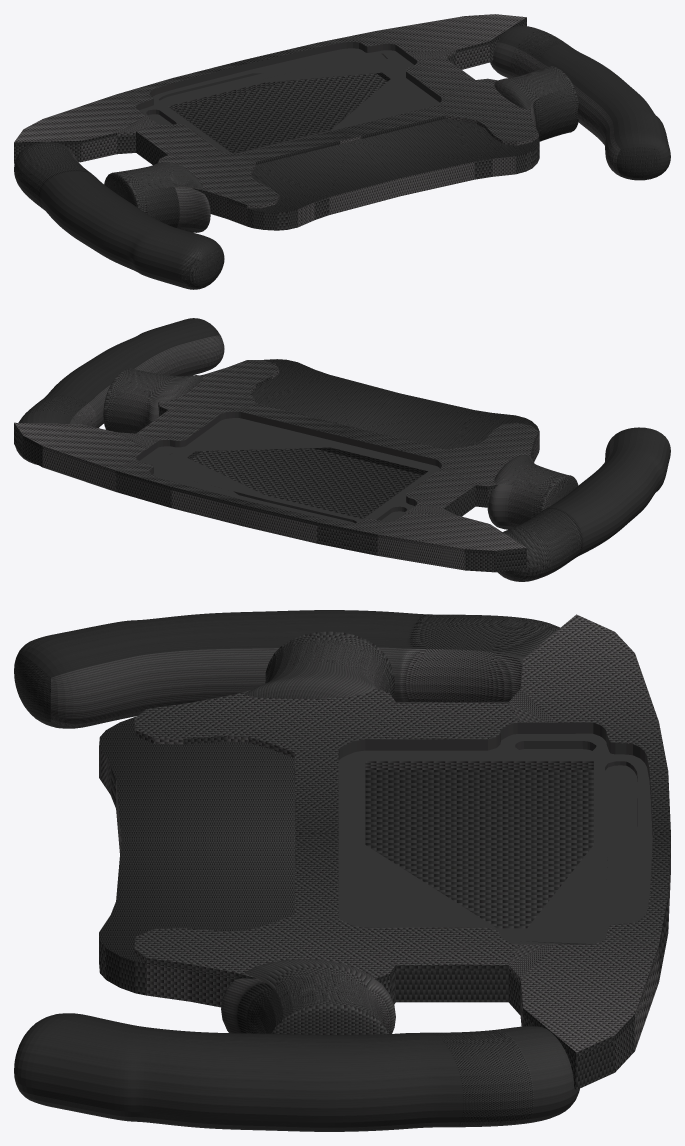
Rendered from F1_Handoru_III.fbx.
The picture shows the model from 3 angles, top to bottom: view 1: azimuth 30°, elevation 25°; view 2: azimuth 150°, elevation 25°; view 3: azimuth 270°, elevation 25°; orthographic projection. The views are drawn at different scales.
Parts seen in each view (by area): view 1: 平面, 立方体.001, 立方体.002; view 2: 平面, 立方体.001, 立方体.002; view 3: 平面, 立方体.001, 立方体.002.
Boxes of the visible parts, x1=… form: 平面: x1=14, y1=14, x2=539, y2=230; 立方体.001: x1=14, y1=26, x2=670, y2=289; 立方体.002: x1=104, y1=66, x2=578, y2=232; 平面: x1=14, y1=359, x2=539, y2=572; 立方体.001: x1=15, y1=318, x2=670, y2=581; 立方体.002: x1=103, y1=368, x2=578, y2=529; 平面: x1=99, y1=614, x2=670, y2=1089; 立方体.001: x1=14, y1=610, x2=579, y2=1131; 立方体.002: x1=221, y1=631, x2=395, y2=1034.
Bounding box in the file's own units: 384 × 39.63 × 225.
